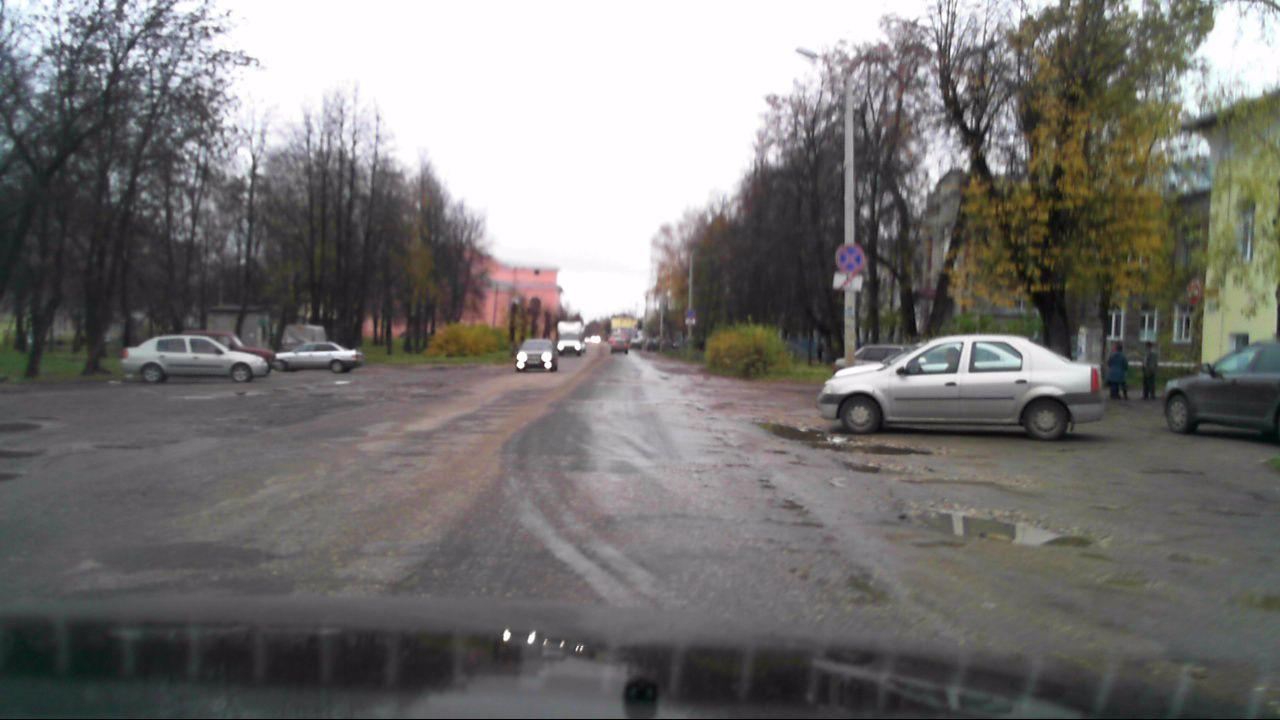3_27: (833, 242, 867, 271)
3_28: (686, 308, 694, 316)
8_18: (832, 272, 864, 291), (685, 318, 695, 324)
